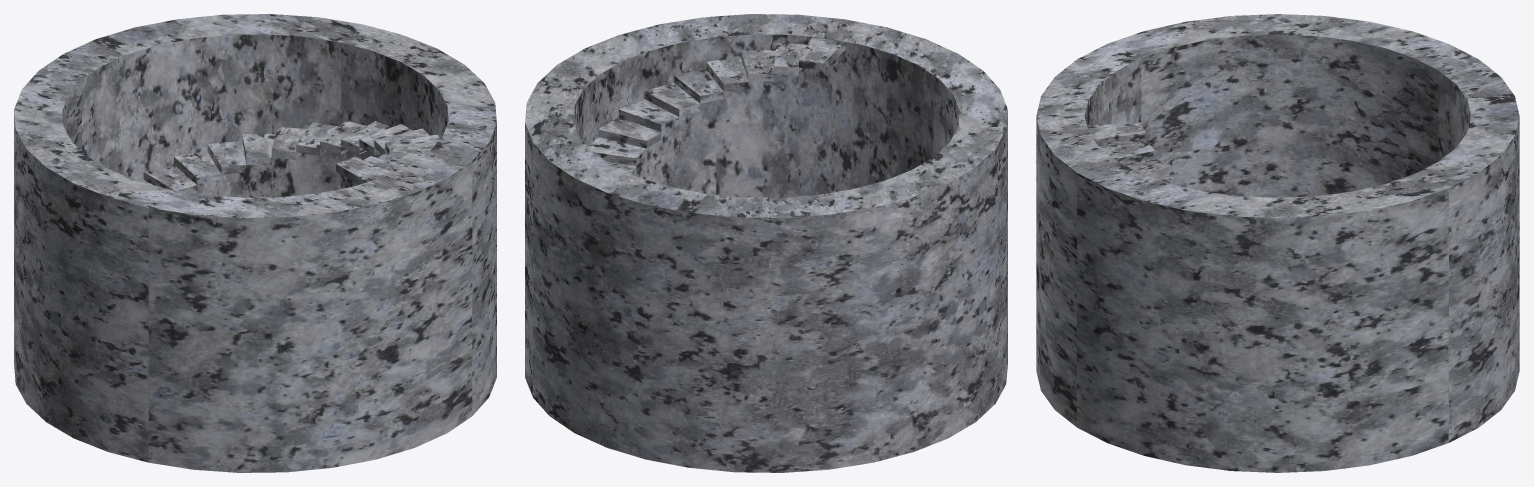
File: SpiralStaircase_05.fbx
The picture shows the model from 3 angles, left to right: view 1: azimuth 30°, elevation 25°; view 2: azimuth 150°, elevation 25°; view 3: azimuth 270°, elevation 25°; orthographic projection.
Visible parts, largest first — view 1: Cylinder; view 2: Cylinder; view 3: Cylinder.
Boxes of the visible parts, x1=… form: Cylinder: x1=14, y1=14, x2=496, y2=472; Cylinder: x1=525, y1=14, x2=1007, y2=472; Cylinder: x1=1036, y1=14, x2=1519, y2=472.
Bounding box in the file's own units: 1119 × 660 × 1119.
Materials: 1 (1 with a texture image).
